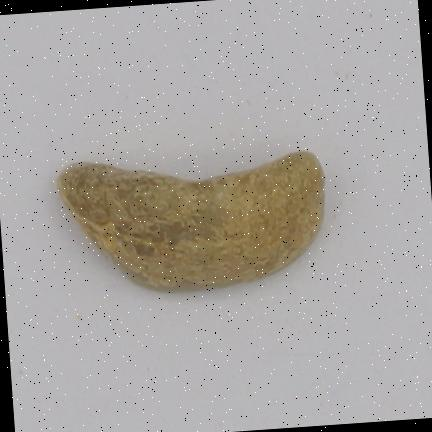cut: (58, 151, 323, 289)
